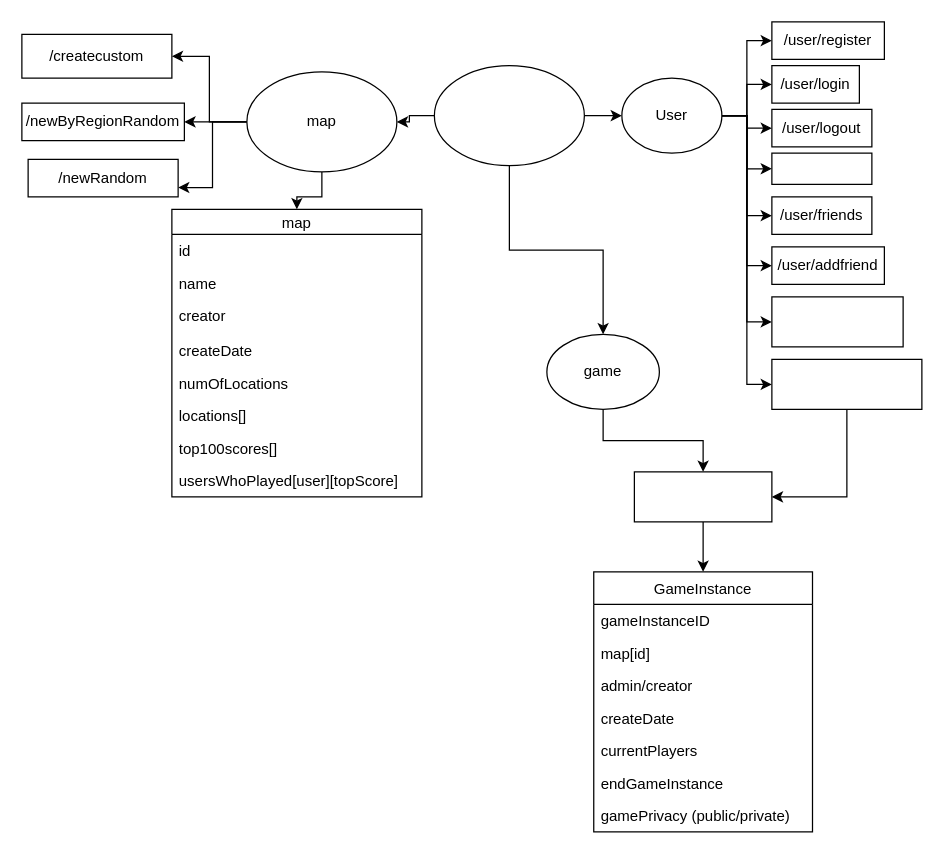
Image size: 944x858. Some labels were removed from this diagram. Here are the shapes that lost their labels. From the top down, the centre of each, then its label:
At [508,115]: "whereami/".
At [821,168]: "/user/delete".
At [837,321]: "/user/historygames".
At [846,383]: "/user/createnewgame".
At [702,496]: "/{gameInstanceID}".
